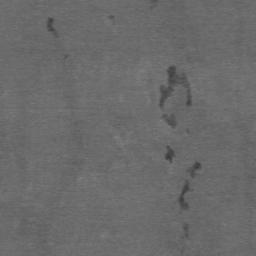Iron scale compression: (159, 65, 192, 109), (178, 184, 188, 214), (46, 18, 58, 38), (161, 113, 176, 129), (189, 161, 201, 179), (165, 146, 174, 164), (183, 224, 190, 239)
